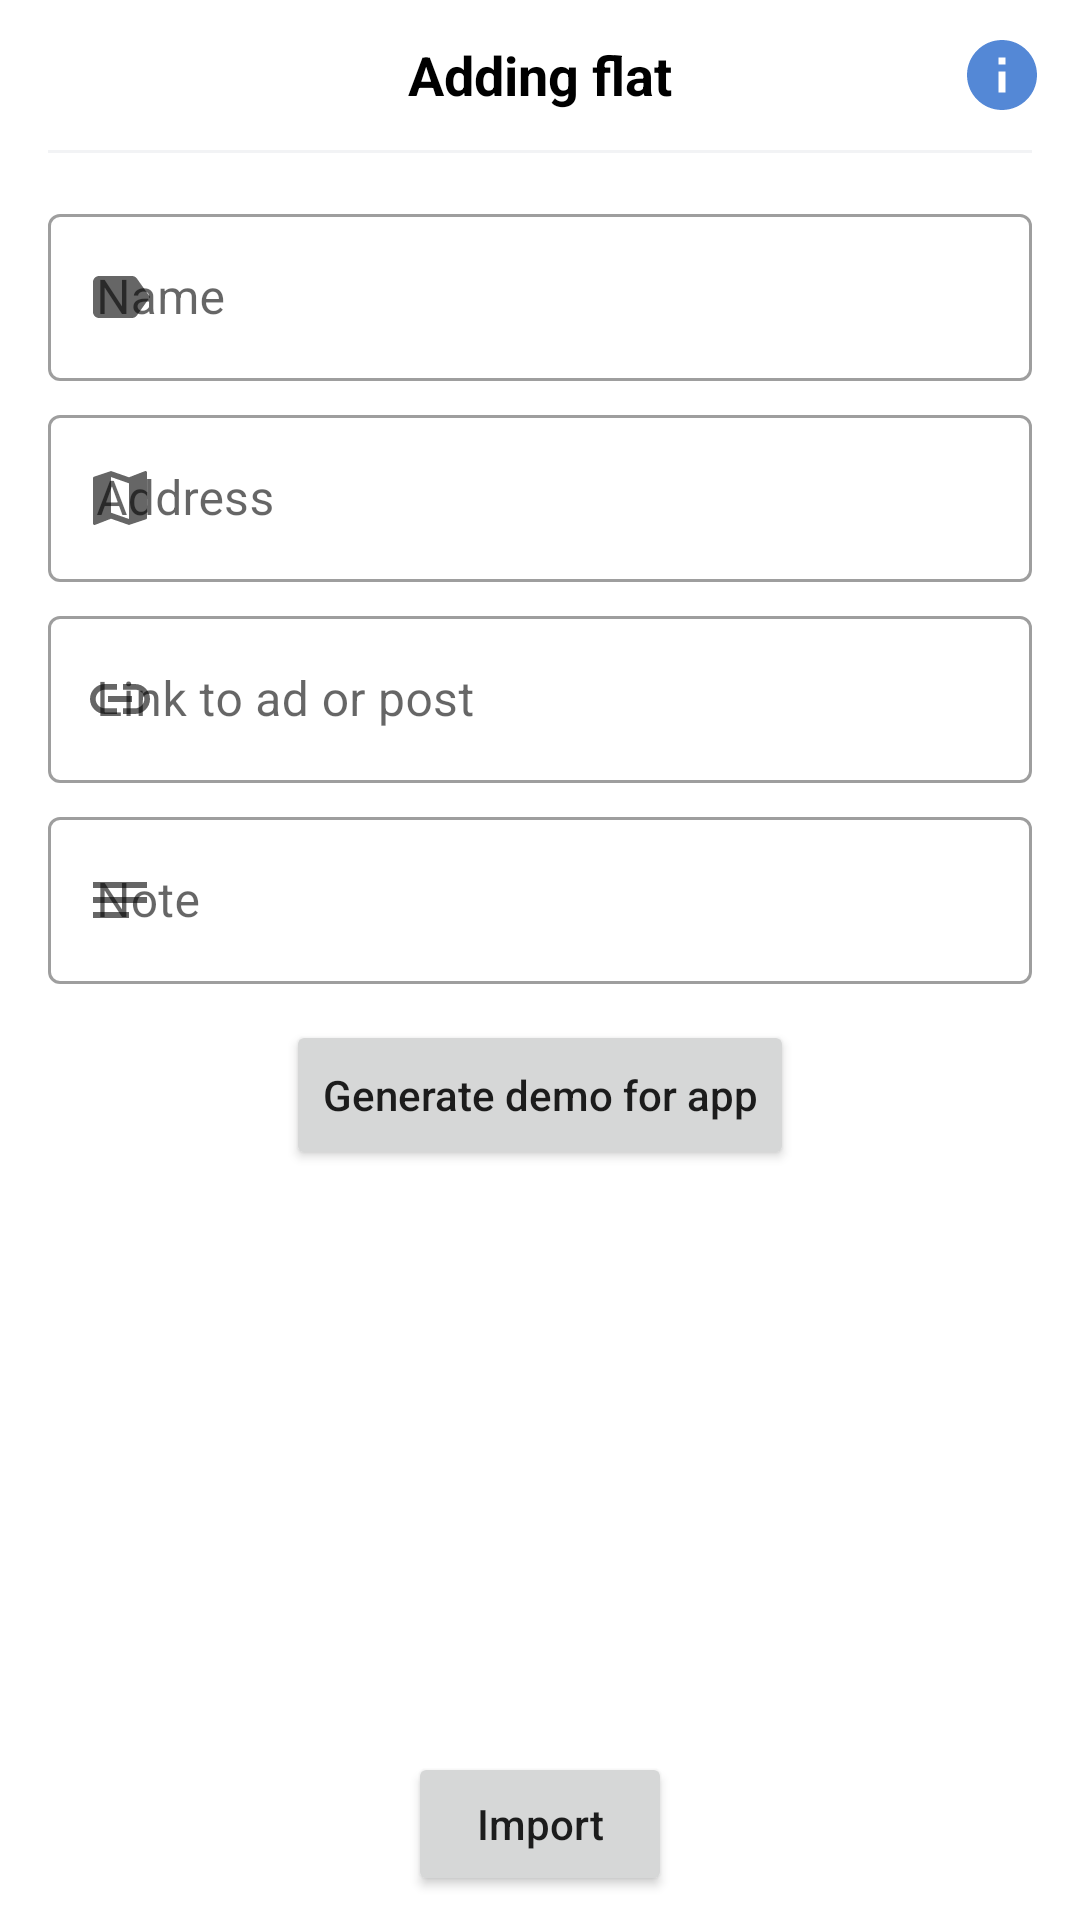

Locate icon controls on the screen. Image size 1080px×1920px, boxes as (x1, y1, x2, y2).
info: (967, 40, 1037, 110)
